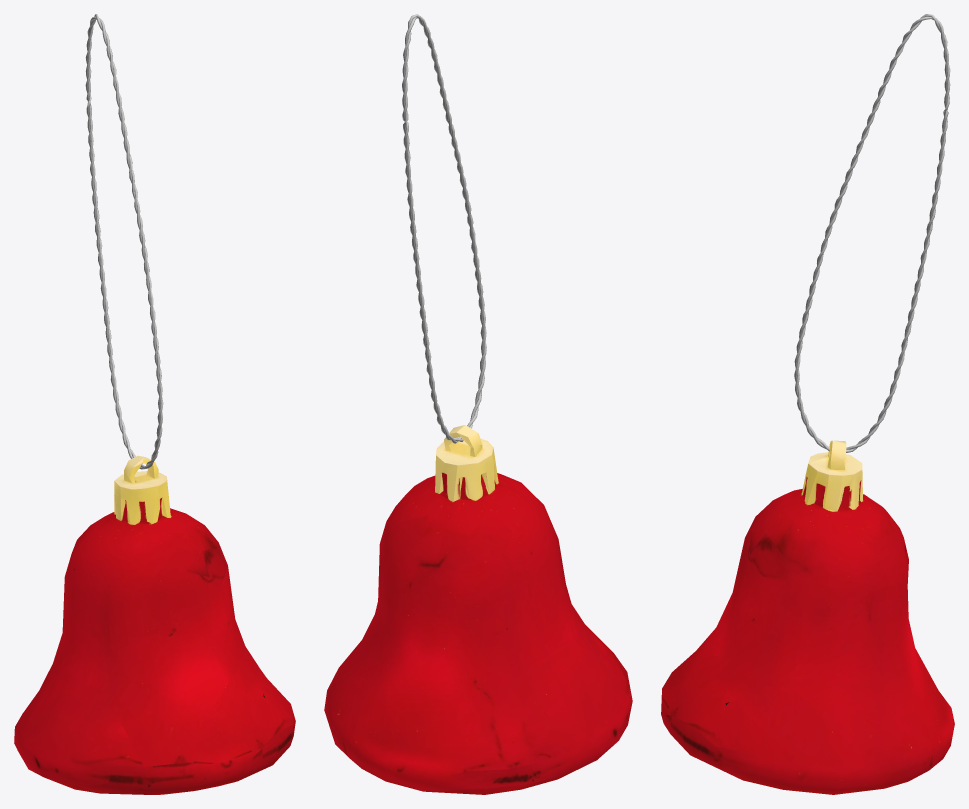
Rendered from Ruby_Bell.glb.
3 views of the same model, side by side, from view 1: azimuth 30°, elevation 25°; view 2: azimuth 150°, elevation 25°; view 3: azimuth 270°, elevation 25° (orthographic). The views are drawn at different scales.
Visible parts, largest first — view 1: Mesh1.0, GN Instance; view 2: Mesh1.0, GN Instance; view 3: Mesh1.0, GN Instance.
Boxes of the visible parts, box(x1,y1,x2,y2) form: Mesh1.0: box(14, 455, 295, 794); GN Instance: box(85, 14, 163, 469); Mesh1.0: box(324, 425, 632, 794); GN Instance: box(402, 14, 486, 443); Mesh1.0: box(661, 440, 954, 794); GN Instance: box(794, 14, 950, 452).
Size of the model in its own units: 0.0574 by 0.1613 by 0.0572.
2 materials, 1 textured.
